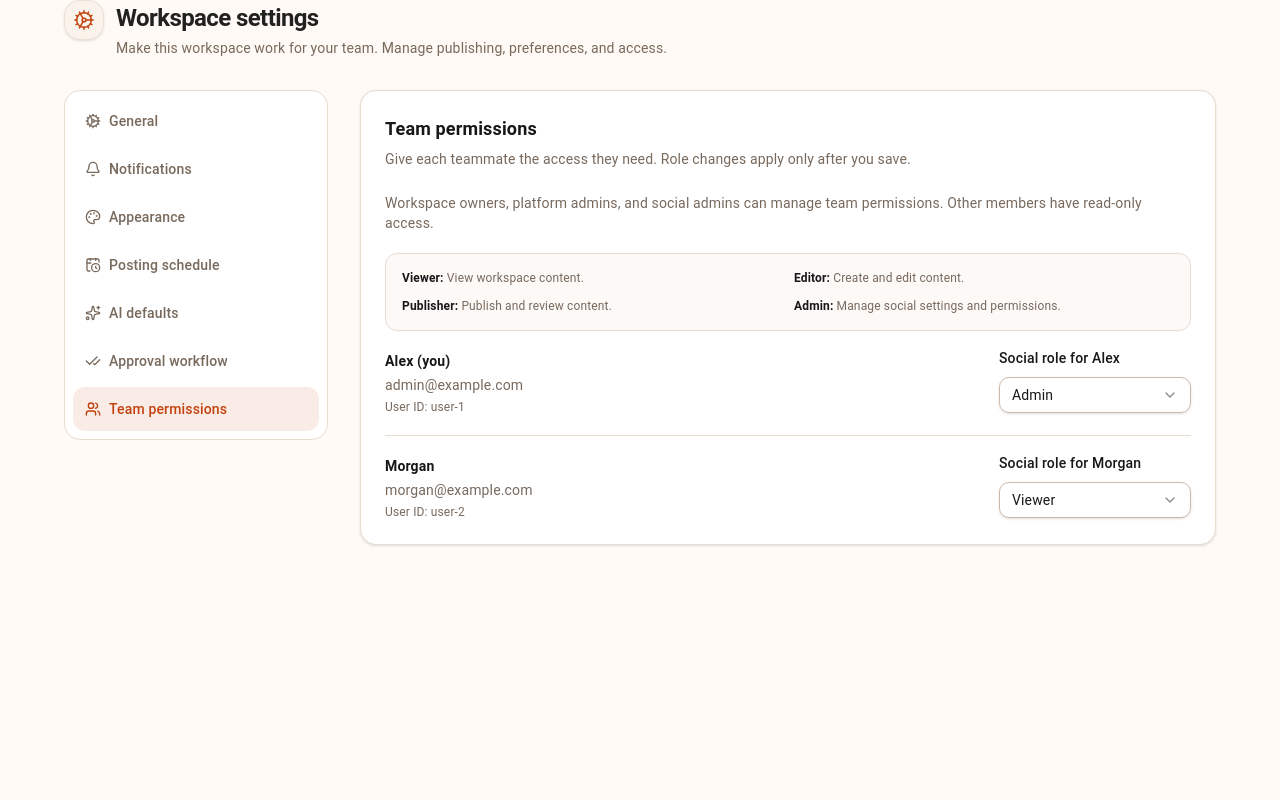
Test: SocialTeamPermissions › preserves failed drafts with inline error and an explicit retry
Click the dropdown named "Social role for Morgan" at coordinates (1095, 500), box x1=999 y1=482 x2=1191 y2=518
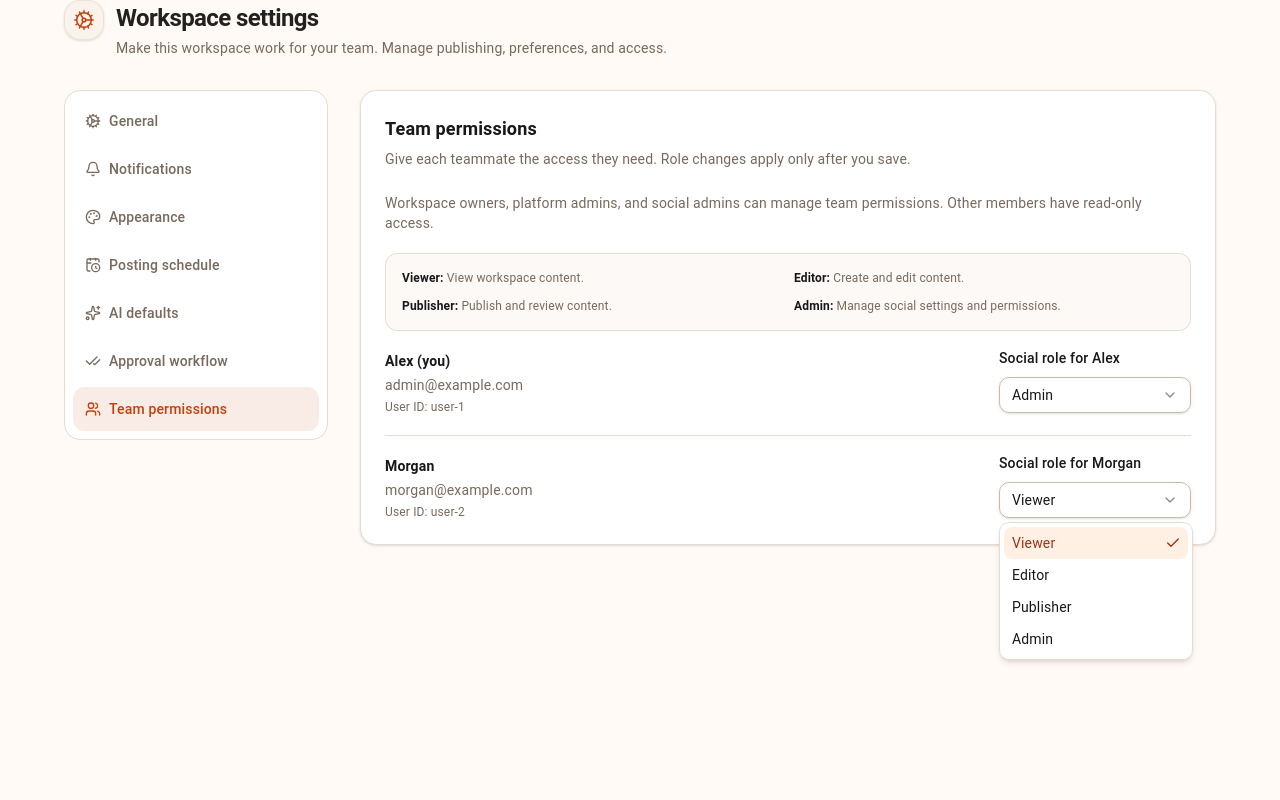
Click the option "Editor" at coordinates (1031, 575), box x1=1012 y1=567 x2=1049 y2=583
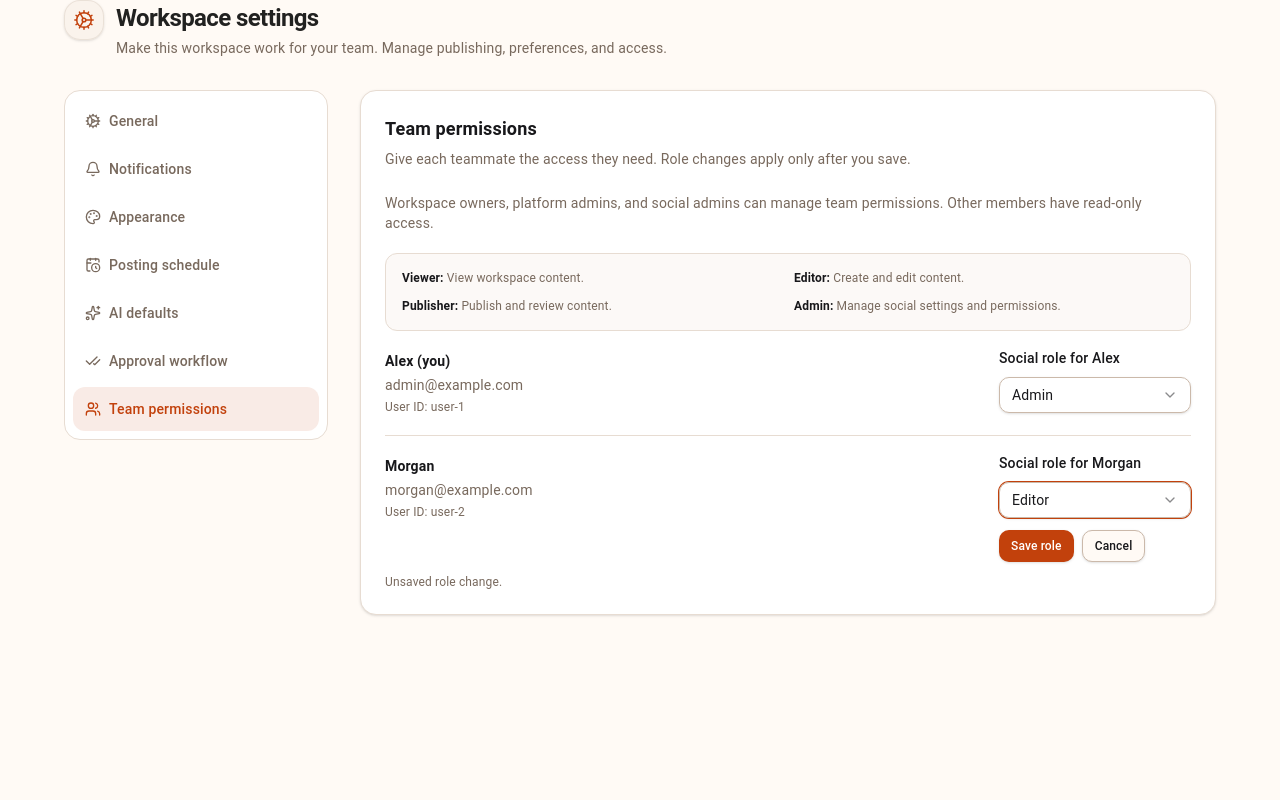
Click the button with aria-label "Save role for Morgan" at coordinates (1036, 546), box x1=999 y1=530 x2=1074 y2=562
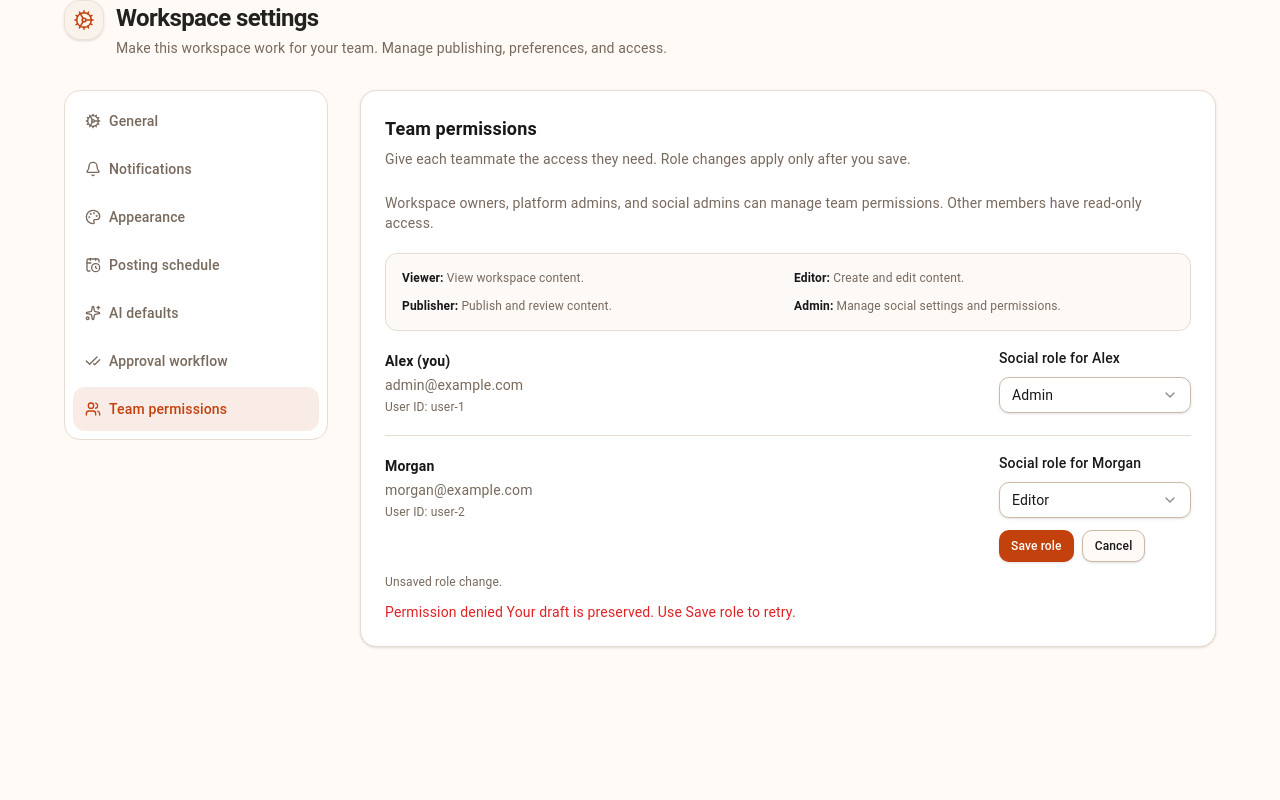
Now the dropdown named "Social role for Morgan" reads "Editor", box x1=999 y1=482 x2=1191 y2=518
Now the message "Permission denied Your draft is preserved. Use Save role to retry." is shown, box x1=385 y1=604 x2=796 y2=620
Click the button with aria-label "Save role for Morgan" at coordinates (1036, 546), box x1=999 y1=530 x2=1074 y2=562
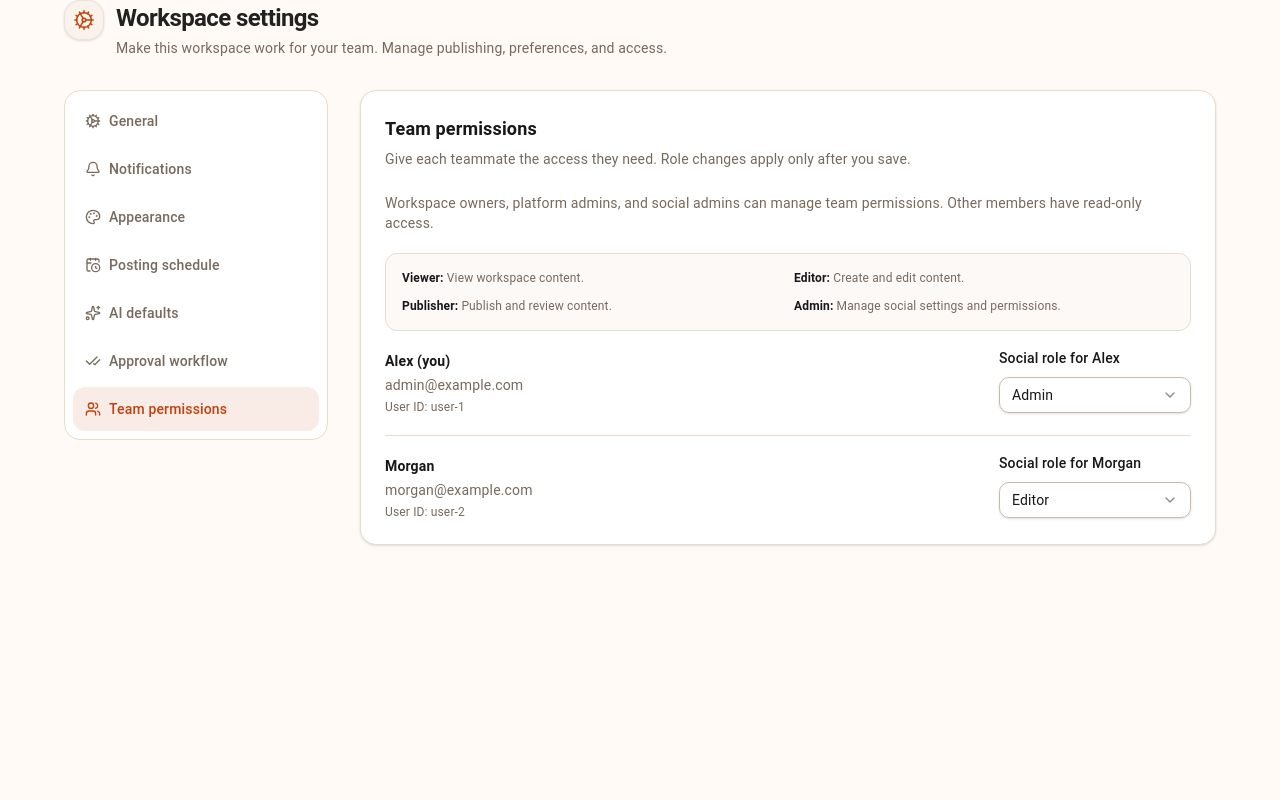
Now the message "Unsaved role change." is gone
